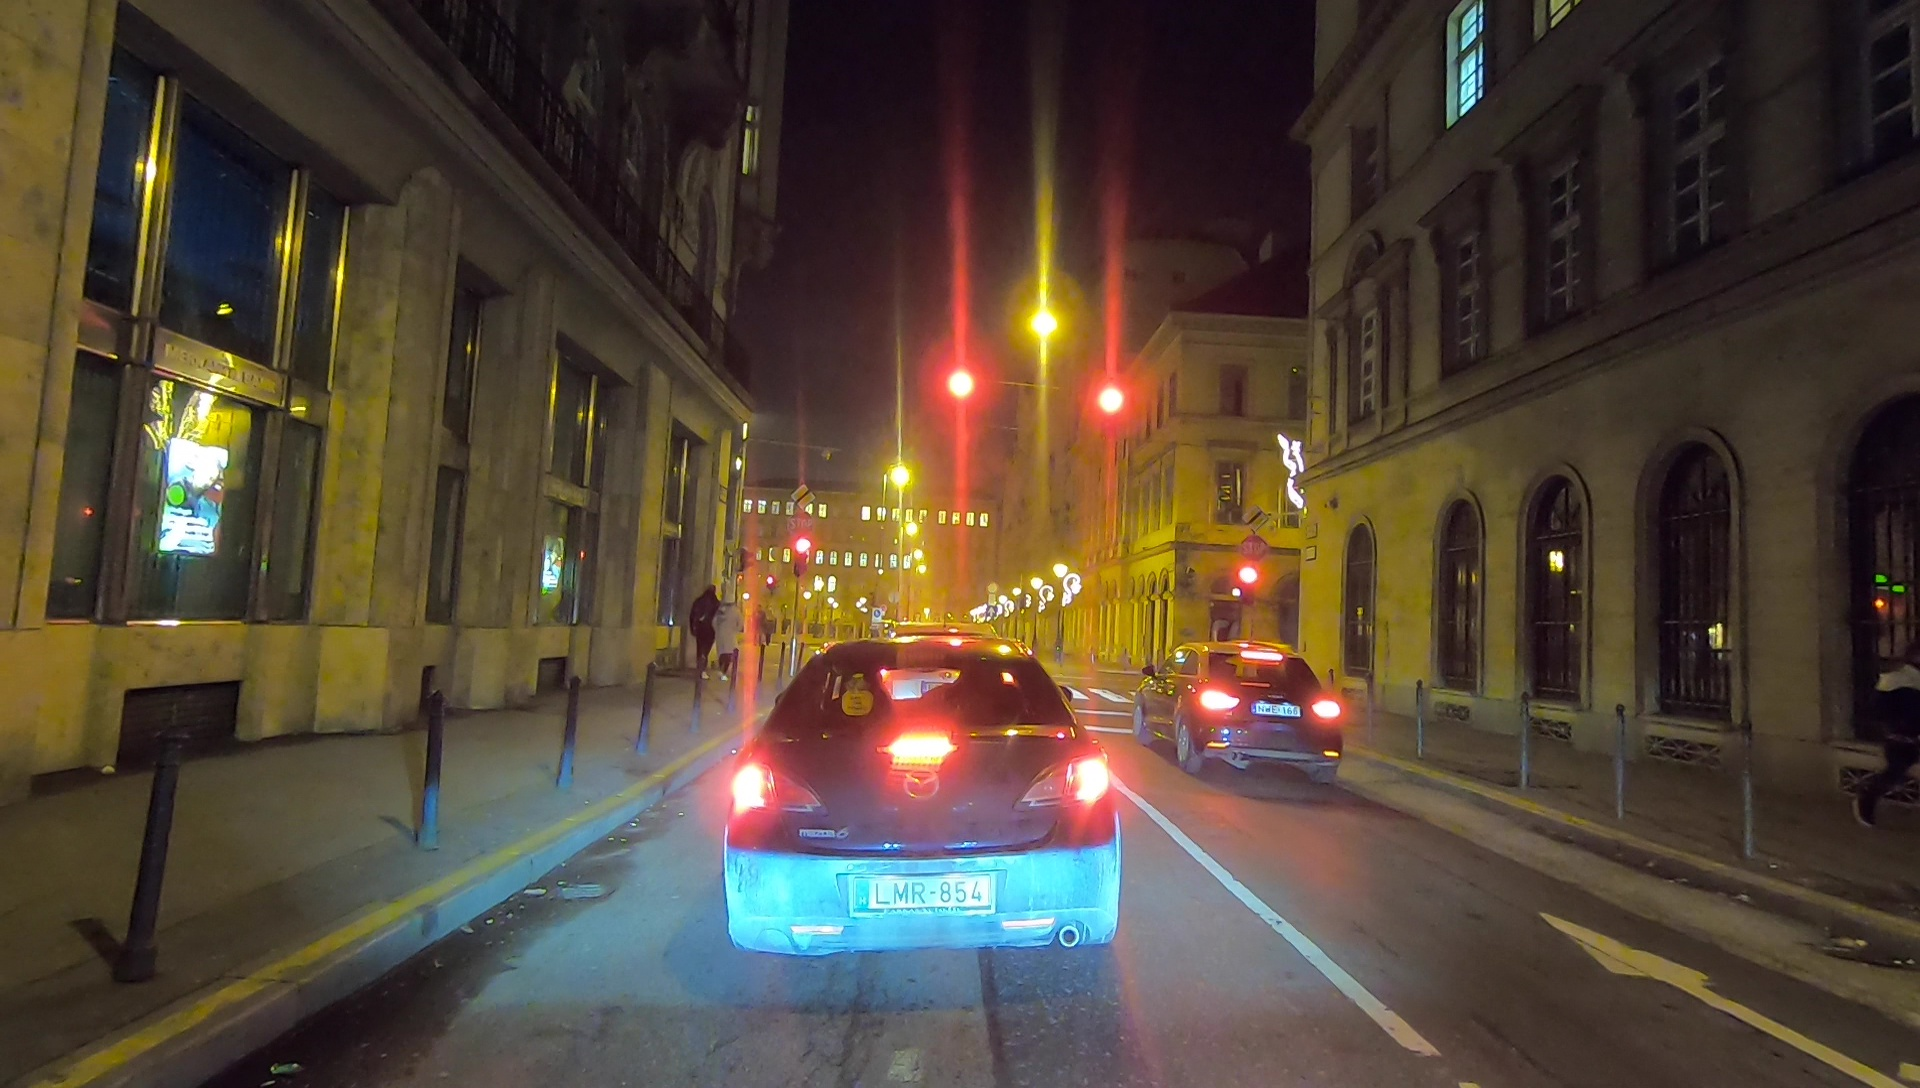person: (1847, 652, 1920, 826), (686, 580, 717, 684), (714, 591, 745, 689)
